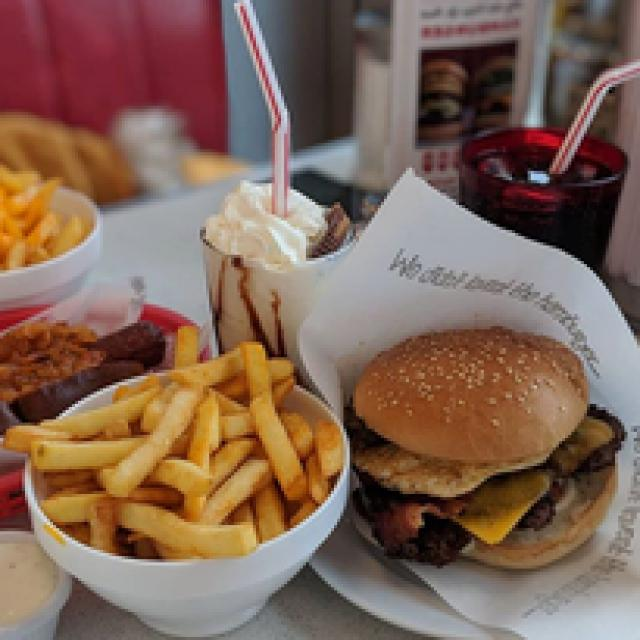Burger: (350, 314, 624, 578)
French Fries: (44, 329, 337, 581), (3, 165, 97, 273)
